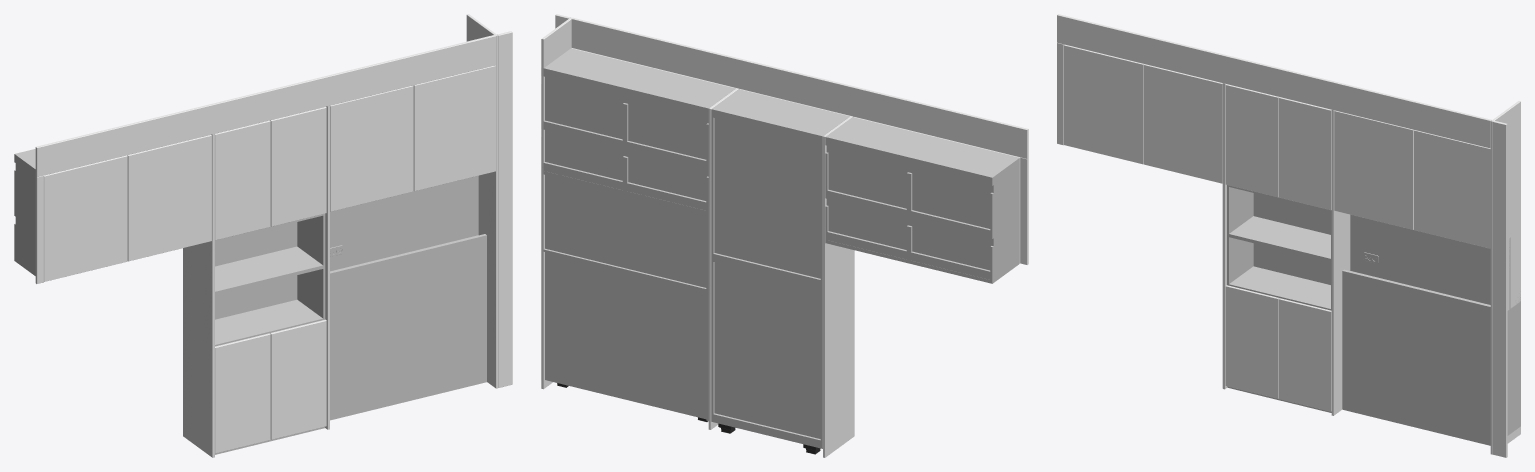
The model's file is THST00222.glb.
3 renders of one model, left to right at view 1: azimuth 30°, elevation 25°; view 2: azimuth 150°, elevation 25°; view 3: azimuth 330°, elevation 25°, orthographic. The views are drawn at different scales.
Parts seen in each view (by area): view 1: node_1476_StaticMeshComponent0, node_2885_StaticMeshComponent0, node_756_2_StaticMeshComponent0, node_1482_StaticMeshComponent0, node_624_StaticMeshComponent0, node_1467_StaticMeshComponent0, node_1484_StaticMeshComponent0, node_1405_StaticMeshComponent0, node_1883_2_StaticMeshComponent0, node_2233_StaticMeshComponent0, node_2845_StaticMeshComponent0, node_1913_2_StaticMeshComponent0 (+14 smaller); view 2: node_2025_StaticMeshComponent0, node_1475_StaticMeshComponent0, node_2885_StaticMeshComponent0, node_1468_StaticMeshComponent0, node_874_2_StaticMeshComponent0, node_1448_2_StaticMeshComponent0, node_1222_2_StaticMeshComponent0, node_1457_StaticMeshComponent0, node_1405_StaticMeshComponent0, node_875_2_StaticMeshComponent0, node_2024_StaticMeshComponent0, node_1446_2_StaticMeshComponent0 (+27 smaller); view 3: node_1476_StaticMeshComponent0, node_2885_StaticMeshComponent0, node_1467_StaticMeshComponent0, node_624_StaticMeshComponent0, node_756_2_StaticMeshComponent0, node_1482_StaticMeshComponent0, node_1484_StaticMeshComponent0, node_2233_StaticMeshComponent0, node_1883_2_StaticMeshComponent0, node_2845_StaticMeshComponent0, node_1913_2_StaticMeshComponent0, node_709_2_StaticMeshComponent0 (+13 smaller).
Part boxes in pixels (<box>): node_1476_StaticMeshComponent0: <box>330,234,486,420</box>; node_2885_StaticMeshComponent0: <box>37,36,495,176</box>; node_756_2_StaticMeshComponent0: <box>44,156,127,281</box>; node_1482_StaticMeshComponent0: <box>330,86,413,211</box>; node_624_StaticMeshComponent0: <box>128,136,211,260</box>; node_1467_StaticMeshComponent0: <box>330,175,478,271</box>; node_1484_StaticMeshComponent0: <box>414,66,495,190</box>; node_1405_StaticMeshComponent0: <box>183,134,212,457</box>; node_1883_2_StaticMeshComponent0: <box>215,334,270,453</box>; node_2233_StaticMeshComponent0: <box>215,121,270,239</box>; node_2845_StaticMeshComponent0: <box>271,321,326,439</box>; node_1913_2_StaticMeshComponent0: <box>271,108,326,226</box>; node_2025_StaticMeshComponent0: <box>714,108,821,438</box>; node_1475_StaticMeshComponent0: <box>545,252,706,419</box>; node_2885_StaticMeshComponent0: <box>571,19,1026,158</box>; node_1468_StaticMeshComponent0: <box>545,176,706,285</box>; node_874_2_StaticMeshComponent0: <box>912,156,991,270</box>; node_1448_2_StaticMeshComponent0: <box>628,87,707,200</box>; node_1222_2_StaticMeshComponent0: <box>828,136,907,249</box>; node_1457_StaticMeshComponent0: <box>545,67,623,180</box>; node_1405_StaticMeshComponent0: <box>825,116,854,457</box>; node_875_2_StaticMeshComponent0: <box>990,157,1019,283</box>; node_2024_StaticMeshComponent0: <box>715,89,847,134</box>; node_1446_2_StaticMeshComponent0: <box>629,68,732,106</box>; node_1476_StaticMeshComponent0: <box>1342,269,1490,445</box>; node_2885_StaticMeshComponent0: <box>1057,15,1490,147</box>; node_1467_StaticMeshComponent0: <box>1350,214,1510,309</box>; node_624_StaticMeshComponent0: <box>1143,65,1222,183</box>; node_756_2_StaticMeshComponent0: <box>1064,45,1142,163</box>; node_1482_StaticMeshComponent0: <box>1334,111,1412,229</box>; node_1484_StaticMeshComponent0: <box>1414,130,1490,248</box>; node_2233_StaticMeshComponent0: <box>1225,85,1277,197</box>; node_1883_2_StaticMeshComponent0: <box>1225,286,1277,398</box>; node_2845_StaticMeshComponent0: <box>1278,299,1330,411</box>; node_1913_2_StaticMeshComponent0: <box>1278,98,1330,209</box>; node_709_2_StaticMeshComponent0: <box>1493,122,1505,457</box>.
Bounding box in the file's own units: 3.39 × 2.4 × 0.365.
Materials: 7 (1 with a texture image).
